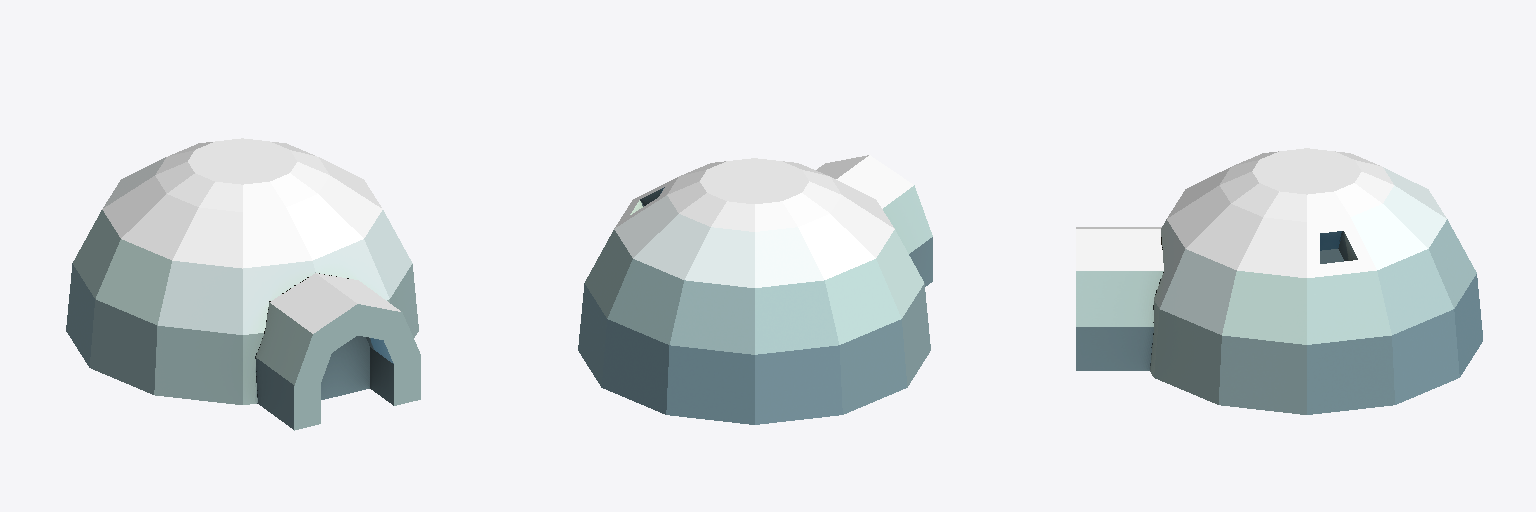
The picture shows the model from 3 angles: view 1: azimuth 30°, elevation 25°; view 2: azimuth 150°, elevation 25°; view 3: azimuth 270°, elevation 25°; orthographic projection.
Visible parts, largest first — view 1: igloo; view 2: igloo; view 3: igloo.
Boxes of the visible parts, <box> form: igloo: <box>66,138,420,430</box>; igloo: <box>578,155,932,424</box>; igloo: <box>1076,148,1482,414</box>.
Bounding box in the file's own units: 2 × 1.06 × 2.31.
Materials: 1 (1 with a texture image).